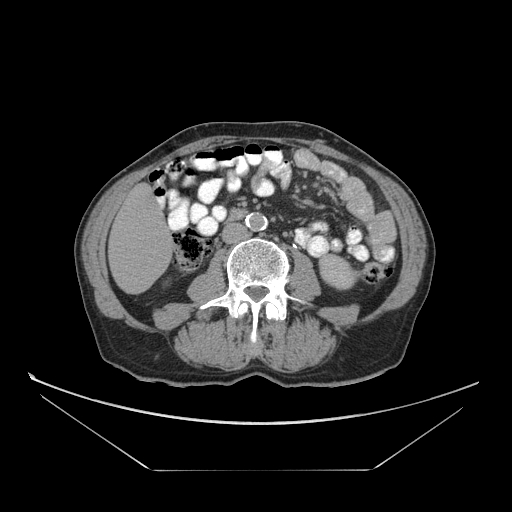right_kidney: (316, 249, 364, 294)
